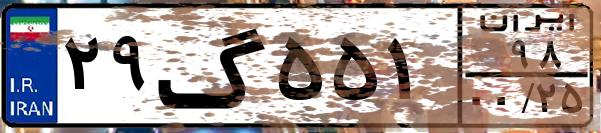0: (470, 70, 495, 125), (495, 70, 520, 125)
1: (385, 28, 445, 110)
2: (57, 26, 110, 100), (535, 70, 560, 125)
5: (270, 28, 330, 110), (330, 28, 385, 110), (560, 70, 590, 125)
8: (537, 27, 568, 80)
9: (110, 28, 156, 98), (508, 27, 537, 80)
گ: (156, 12, 270, 120)
